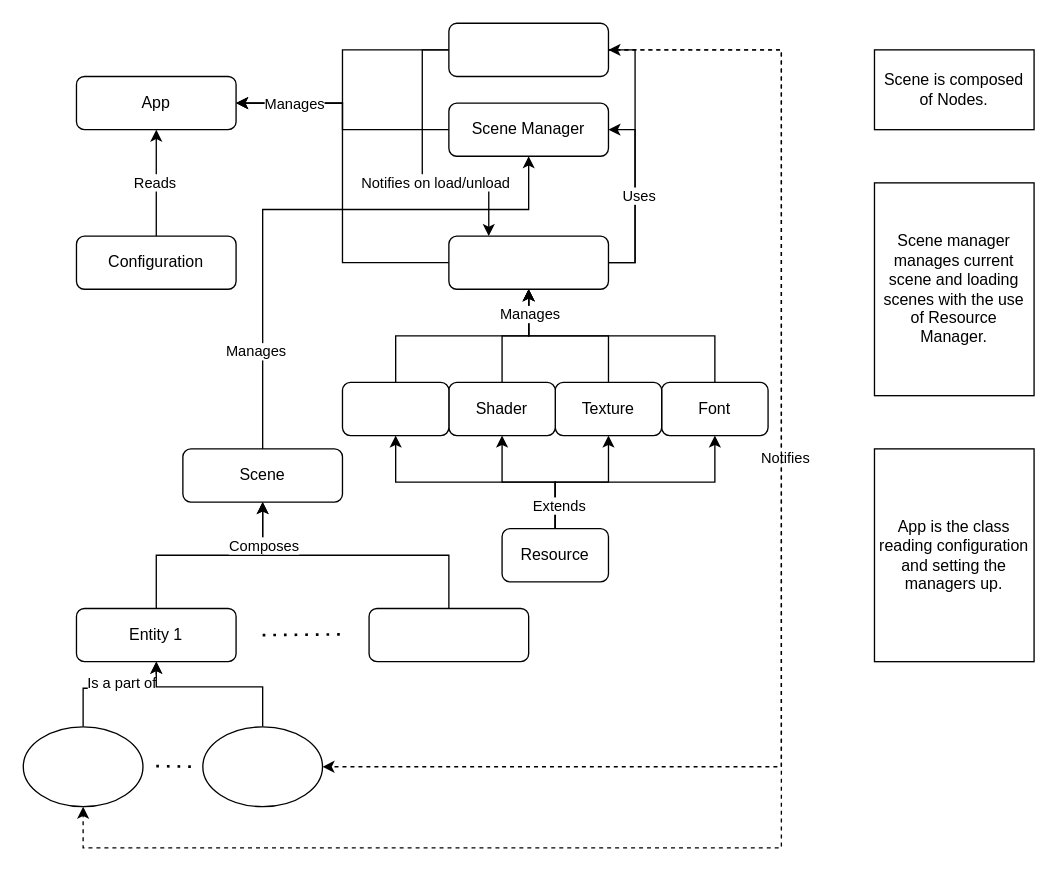
The diagram is 1057 pixels wide and 882 high, and some of its shapes have lost their labels. Here are the shapes that lost their labels. From the top down, the centre of each, then its label:
At (528,49): "Sound Manager".
At (528,262): "Resource Manager".
At (395,408): "SFX".
At (448,634): "Entity N".
At (82,766): "Component 1".
At (262,766): "Component N".
